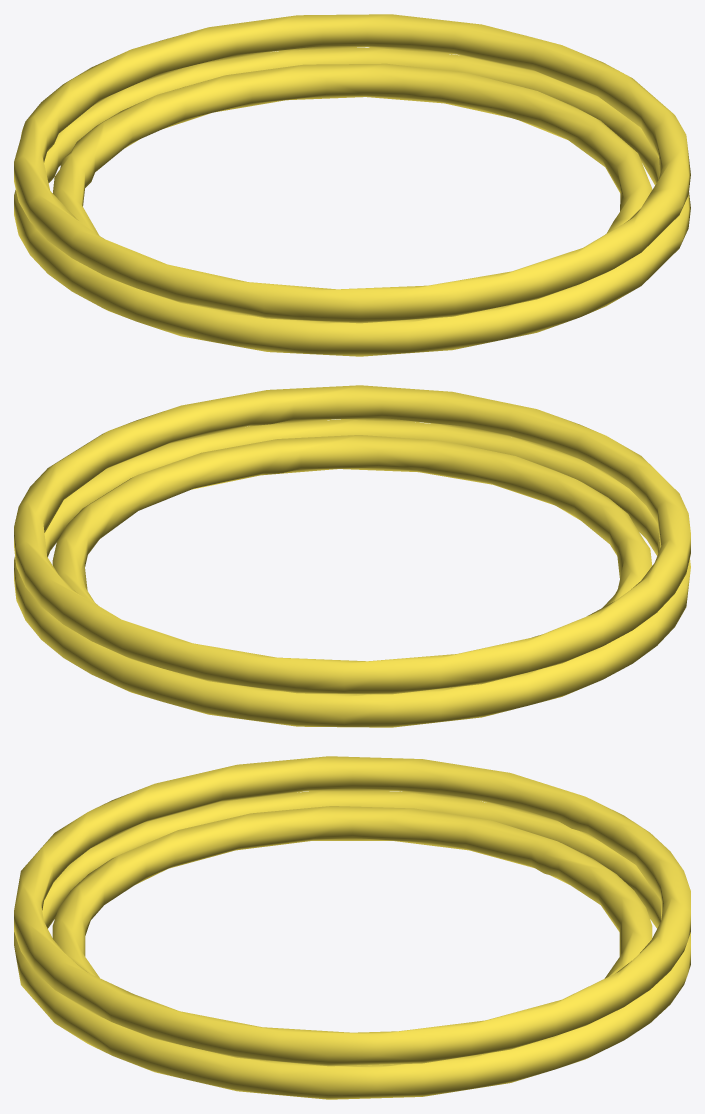
File: ELE-ELD-001_lod1.glb
3 views of the same model, one above another, from view 1: azimuth 30°, elevation 25°; view 2: azimuth 150°, elevation 25°; view 3: azimuth 270°, elevation 25° (orthographic).
Parts seen in each view (by area): view 1: ELE-ELD-001_volta2, ELE-ELD-001_volta0, ELE-ELD-001_volta1; view 2: ELE-ELD-001_volta2, ELE-ELD-001_volta0, ELE-ELD-001_volta1; view 3: ELE-ELD-001_volta2, ELE-ELD-001_volta0, ELE-ELD-001_volta1.
Part boxes in pixels (x1=…): ELE-ELD-001_volta2: x1=14, y1=14, x2=690, y2=323; ELE-ELD-001_volta0: x1=14, y1=47, x2=690, y2=356; ELE-ELD-001_volta1: x1=52, y1=63, x2=652, y2=322; ELE-ELD-001_volta2: x1=14, y1=385, x2=690, y2=694; ELE-ELD-001_volta0: x1=14, y1=419, x2=690, y2=727; ELE-ELD-001_volta1: x1=52, y1=435, x2=652, y2=694; ELE-ELD-001_volta2: x1=14, y1=756, x2=690, y2=1066; ELE-ELD-001_volta0: x1=14, y1=791, x2=690, y2=1099; ELE-ELD-001_volta1: x1=52, y1=806, x2=652, y2=1065.
Size of the model in its own units: 0.4614 by 0.0488 by 0.4591.
